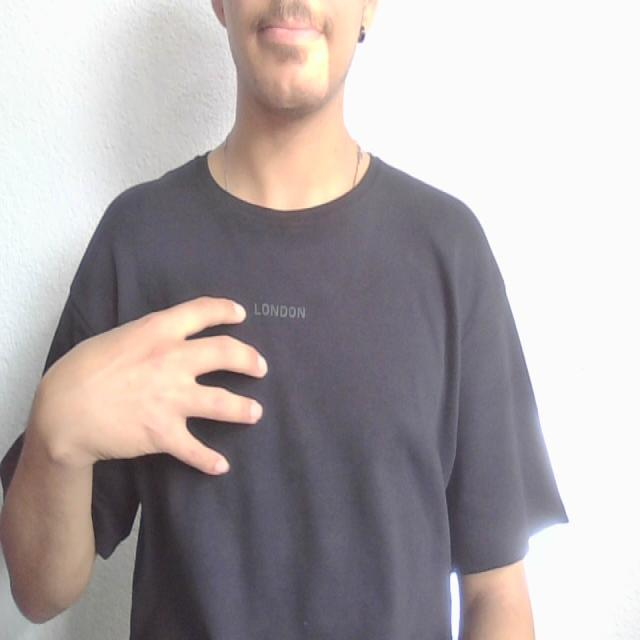Anne: (14, 291, 503, 508)
